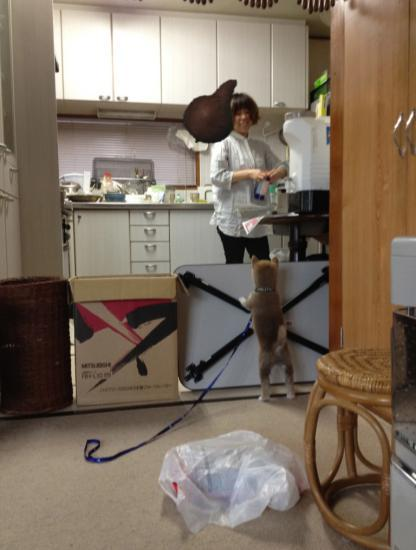Pear: (178, 73, 253, 148)
